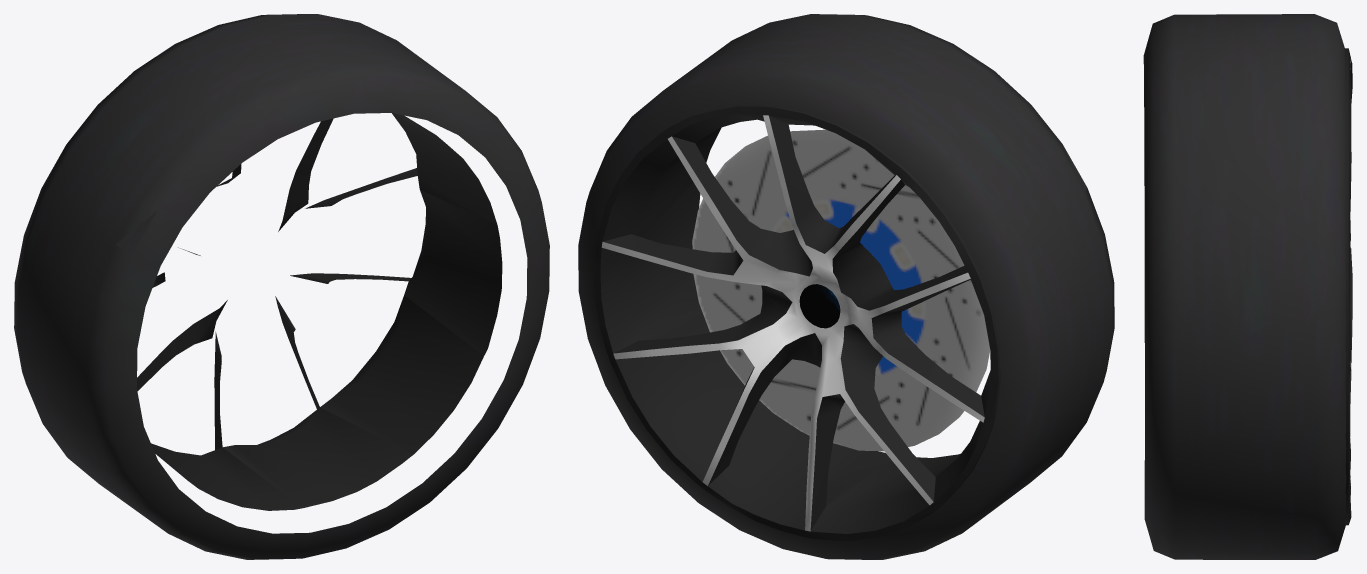
File: carWheelRight1.glb
3 renders of one model, left to right at view 1: azimuth 30°, elevation 25°; view 2: azimuth 150°, elevation 25°; view 3: azimuth 270°, elevation 25°, orthographic. The views are drawn at different scales.
Parts seen in each view (by area): view 1: r_wheel; view 2: r_wheel; view 3: r_wheel.
Part boxes in pixels (x1,y1,x2,y2): r_wheel: (14,14,549,559); r_wheel: (578,14,1114,559); r_wheel: (1143,14,1352,559).
Bounding box in the file's own units: 1.05 × 1.05 × 0.4026.
Materials: 1 (1 with a texture image).
